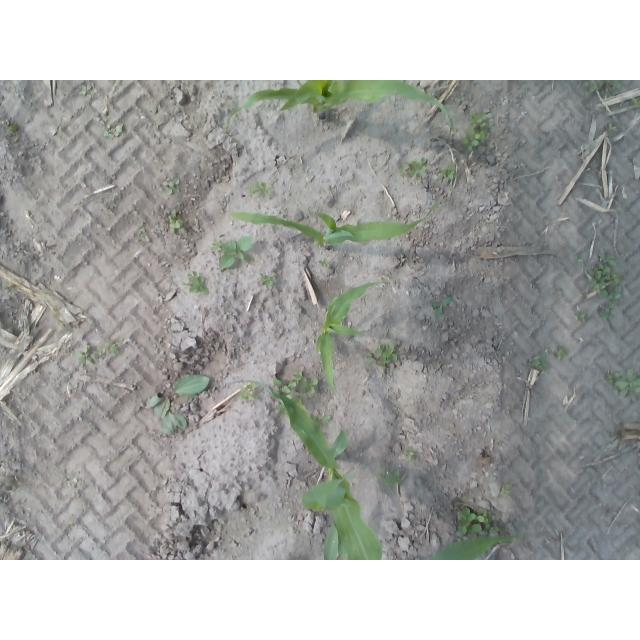Maize: (229, 380, 384, 560), (227, 81, 454, 137), (231, 206, 438, 250), (315, 281, 385, 392), (426, 536, 518, 561), (325, 524, 340, 560)
Weeds: (148, 375, 212, 433), (585, 251, 618, 302), (459, 505, 500, 536), (218, 234, 252, 270), (465, 113, 490, 151), (275, 373, 317, 394), (396, 157, 428, 180), (367, 344, 397, 368), (616, 368, 640, 396), (188, 273, 209, 296), (247, 182, 270, 201), (432, 296, 453, 316), (168, 210, 185, 234), (588, 80, 621, 92), (96, 344, 120, 359), (163, 179, 181, 197), (599, 302, 616, 320), (386, 471, 403, 489), (243, 384, 258, 404), (440, 165, 457, 180), (104, 126, 125, 138), (530, 357, 546, 372), (546, 346, 566, 358), (261, 273, 275, 287), (79, 351, 93, 365), (0, 122, 18, 132), (574, 310, 587, 323), (78, 85, 92, 96), (606, 371, 620, 382), (66, 476, 78, 488), (319, 258, 329, 267), (573, 256, 584, 264), (499, 488, 509, 496), (407, 450, 414, 460)
